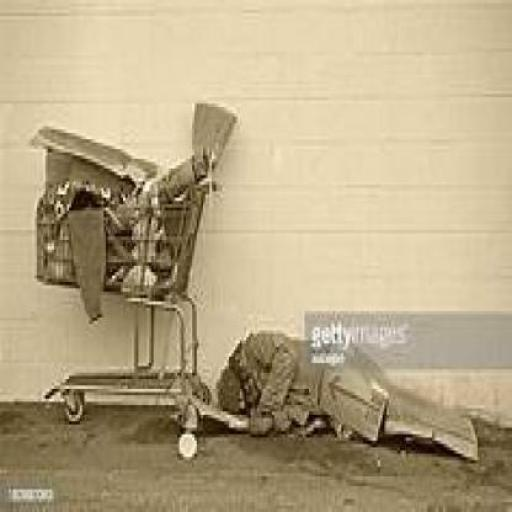shopping_cart: (29, 184, 216, 430)
